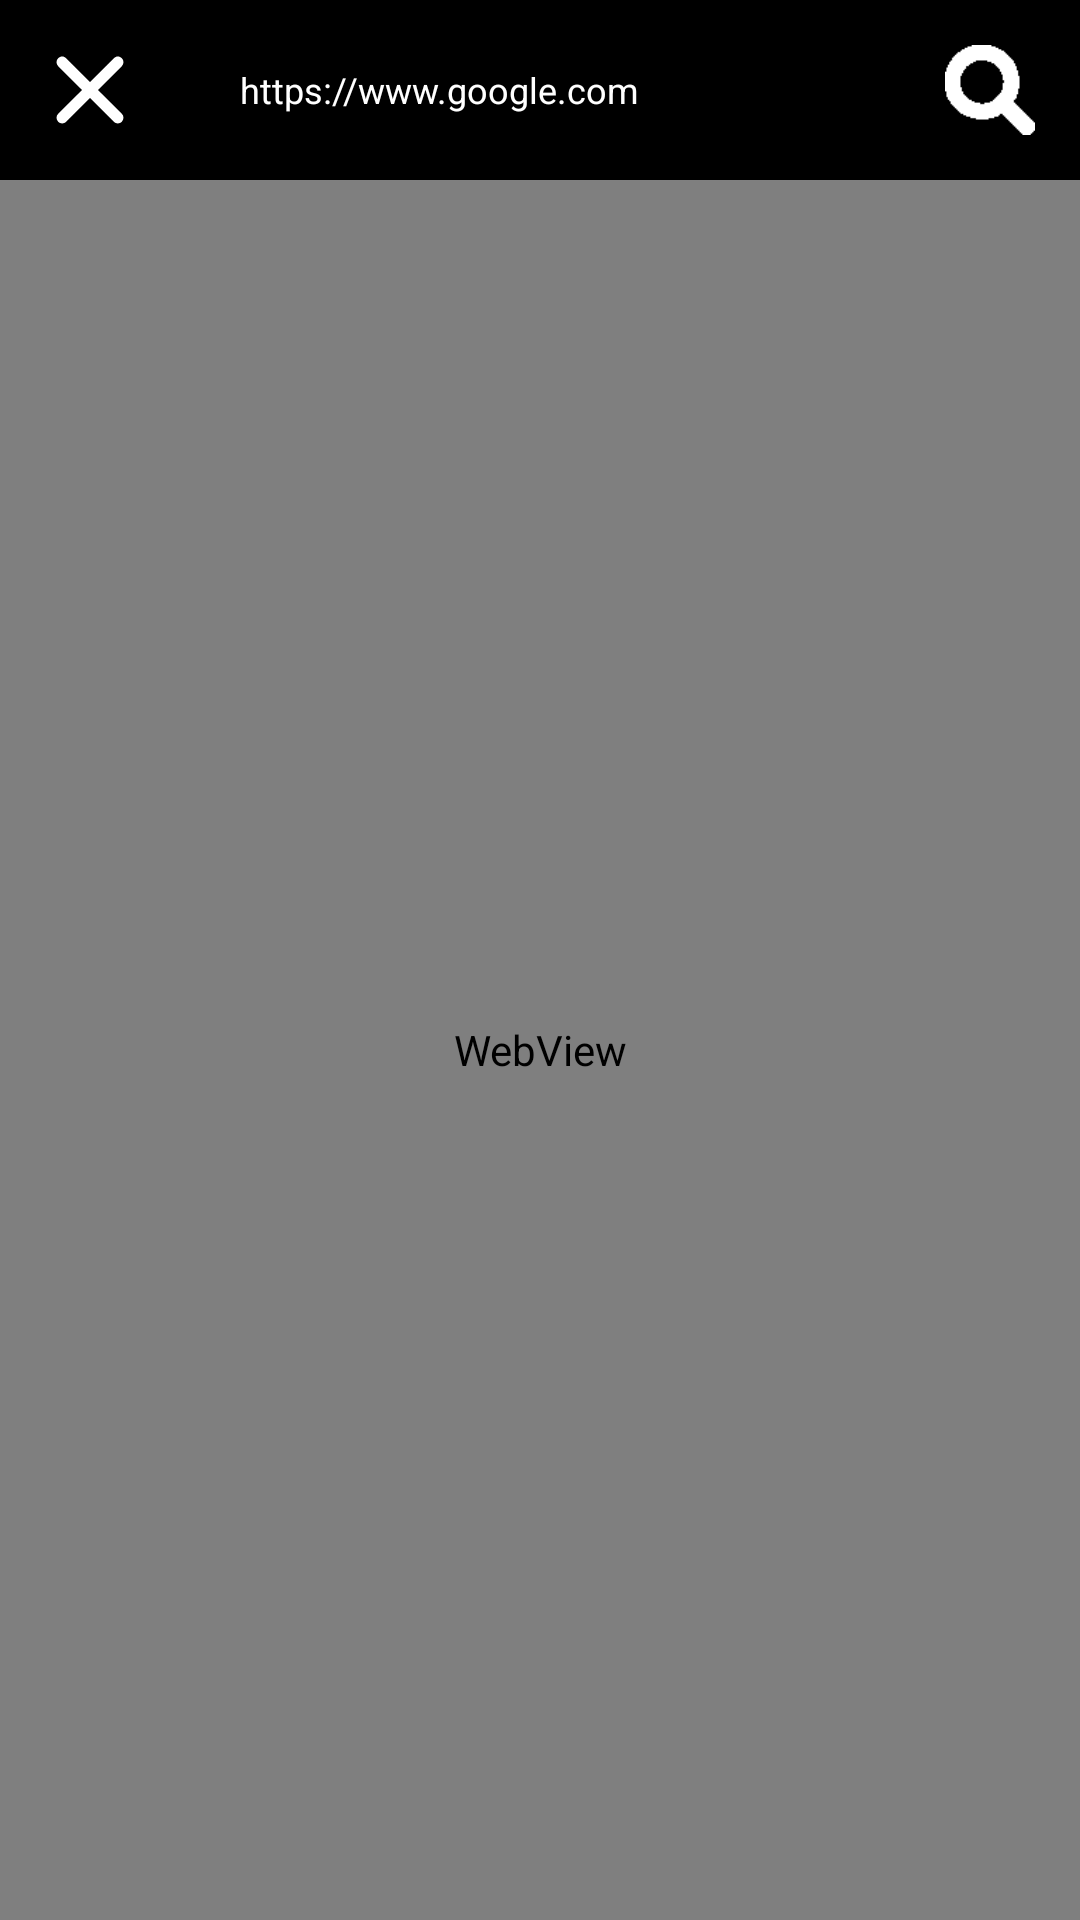

Icons on this 1080×1920 Android screen, each with the point to tap as (x=x, y=y):
cancel: (x=90, y=90)
searchurl: (x=990, y=90)
